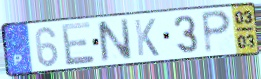3: (173, 14, 201, 55)
6: (33, 25, 60, 69)
E: (59, 20, 97, 68)
K: (132, 17, 161, 58)
N: (95, 17, 134, 65)
P: (200, 9, 234, 56)
